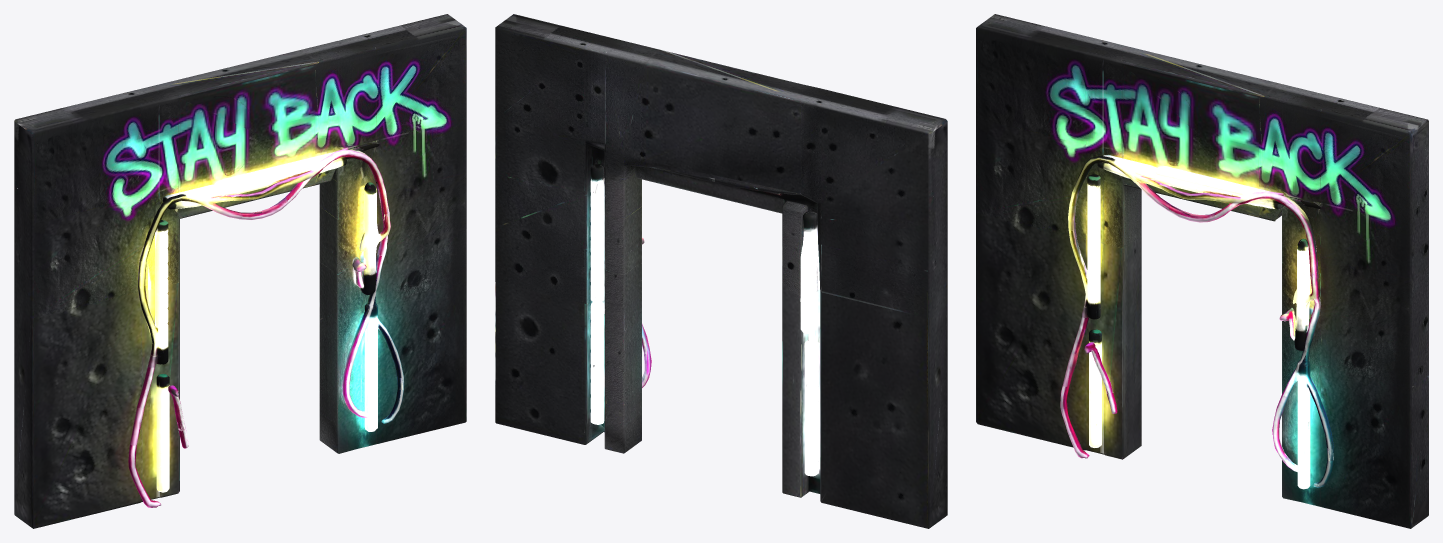
File: Entranec_cement_1.glb
The picture shows the model from 3 angles, left to right: view 1: azimuth 30°, elevation 25°; view 2: azimuth 150°, elevation 25°; view 3: azimuth 330°, elevation 25°; orthographic projection.
Size of the model in its own units: 1.91 by 1.66 by 0.2975.
1 material, 1 textured.
